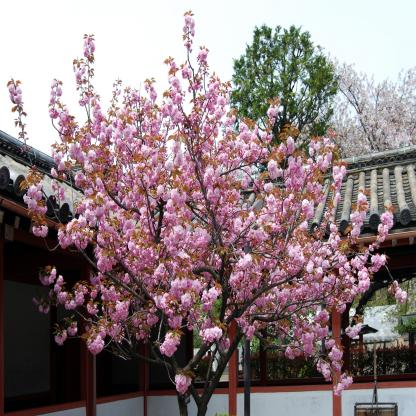YaeSakura: (7, 5, 396, 403), (321, 44, 416, 154)
